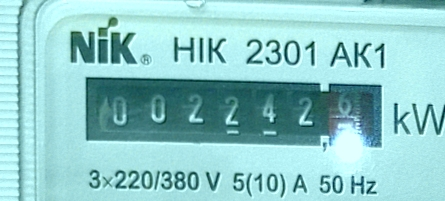0: (110, 94, 130, 127), (149, 91, 167, 124)
2: (223, 93, 241, 127), (187, 92, 206, 124), (297, 95, 314, 127)
4: (262, 91, 278, 124)
6: (337, 89, 353, 116)
screen: (75, 67, 393, 157)
